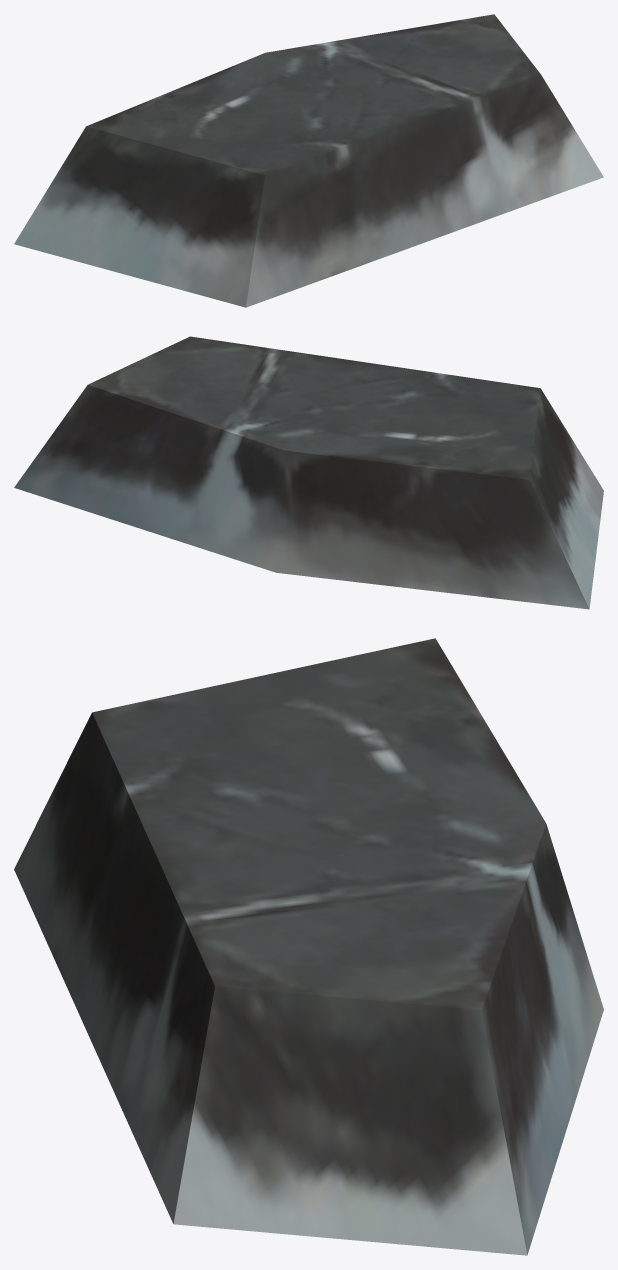
File: common_yewai_shourenshikuai01.FBX
3 views of the same model, one above another, from view 1: azimuth 30°, elevation 25°; view 2: azimuth 150°, elevation 25°; view 3: azimuth 270°, elevation 25° (orthographic). The views are drawn at different scales.
Visible parts, largest first — view 1: common_yewai_shourenshikuai01; view 2: common_yewai_shourenshikuai01; view 3: common_yewai_shourenshikuai01.
Boxes of the visible parts, x1,y1,x2,y2 form: common_yewai_shourenshikuai01: [14, 14, 603, 307]; common_yewai_shourenshikuai01: [14, 336, 603, 609]; common_yewai_shourenshikuai01: [14, 638, 603, 1255].
Bounding box in the file's own units: 2.09 × 0.3905 × 1.08.
